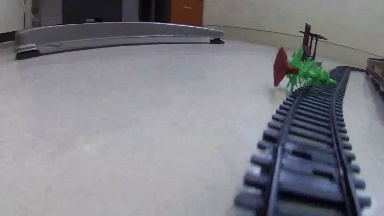tree: (266, 42, 342, 95)
